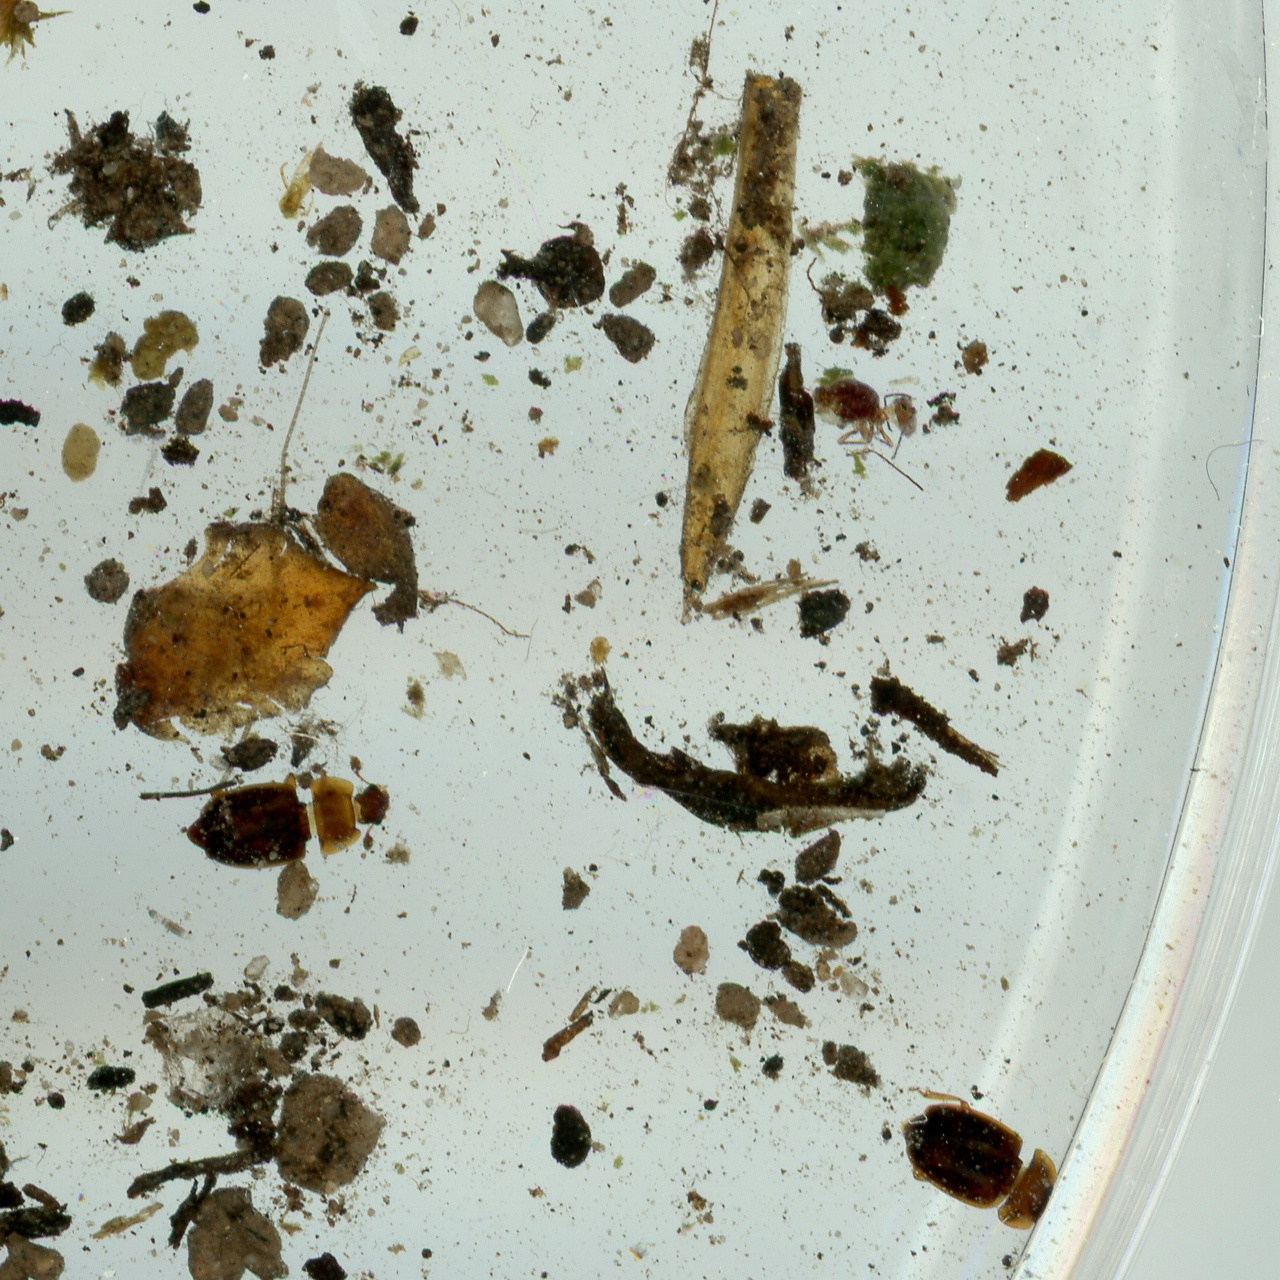arthropod: (869, 1067, 1085, 1246), (173, 745, 401, 885), (188, 764, 394, 871), (906, 1088, 1058, 1226), (809, 375, 922, 463), (812, 369, 918, 449), (275, 138, 327, 223), (277, 141, 325, 222), (137, 901, 198, 949), (0, 1063, 16, 1141), (588, 634, 614, 675), (588, 632, 613, 672), (0, 1071, 6, 1125)
